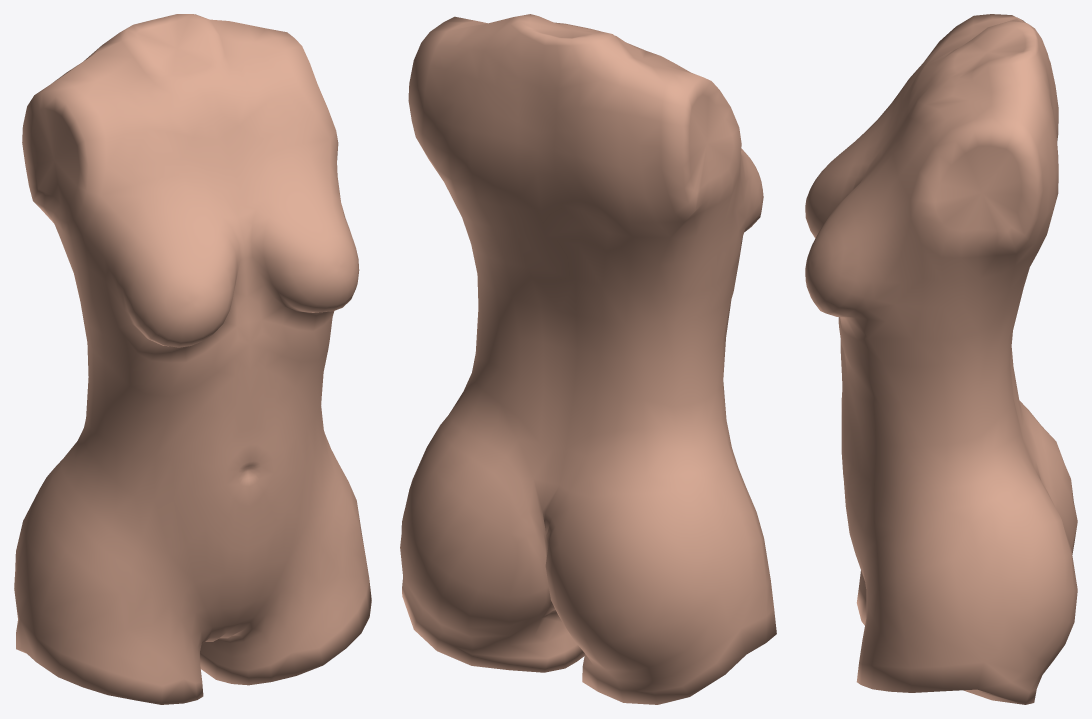
File: Torso.fbx
The picture shows the model from 3 angles, left to right: view 1: azimuth 30°, elevation 25°; view 2: azimuth 150°, elevation 25°; view 3: azimuth 270°, elevation 25°; orthographic projection. The views are drawn at different scales.
Parts seen in each view (by area): view 1: Torso; view 2: Torso; view 3: Torso.
Part boxes in pixels (box(x1,y1,x2,y2)): Torso: box(14, 14, 371, 704); Torso: box(400, 14, 776, 704); Torso: box(805, 14, 1077, 704).
Bounding box in the file's own units: 795 × 1464 × 576.
